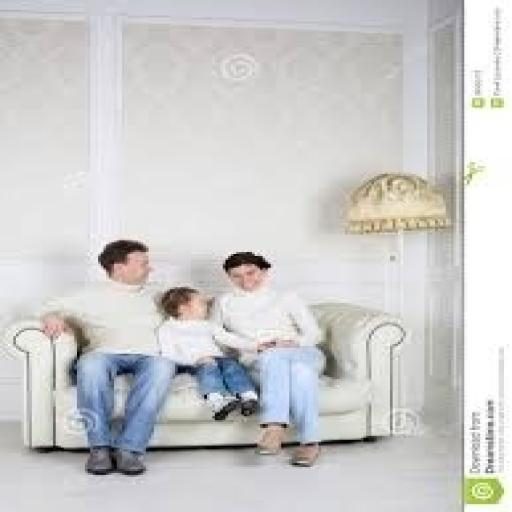sitting: (34, 236, 332, 475), (37, 238, 181, 477), (204, 250, 329, 467), (151, 283, 260, 422)
